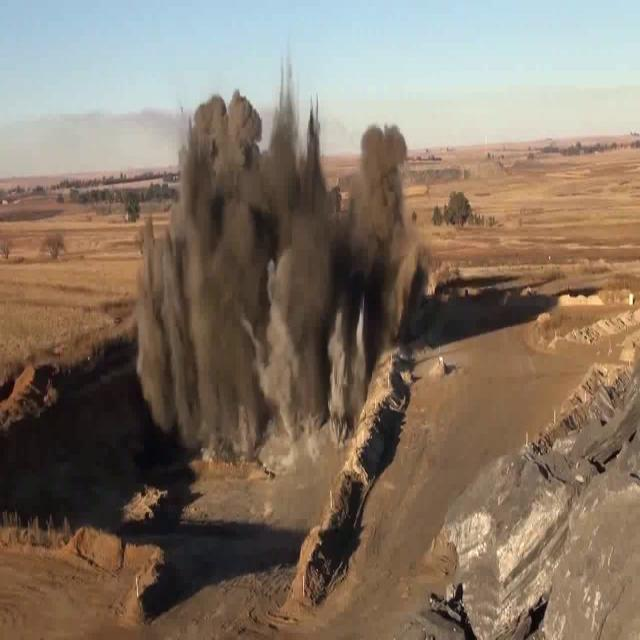explosion: (110, 60, 458, 528)
